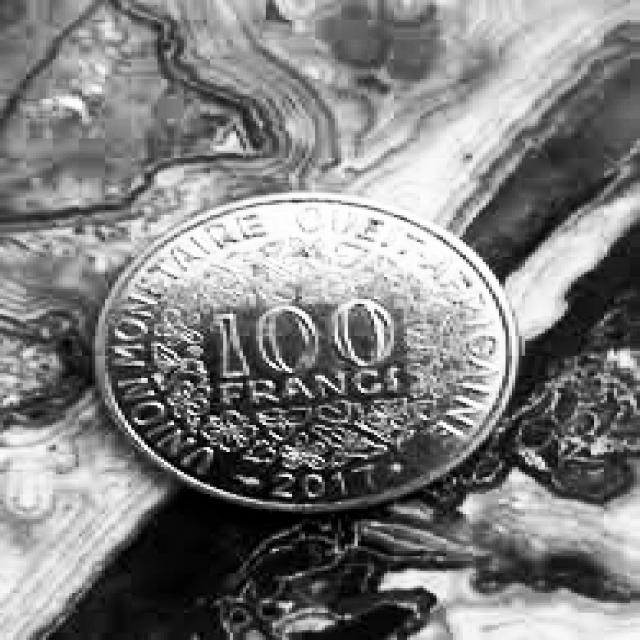niaari fukk: (96, 194, 518, 513)
